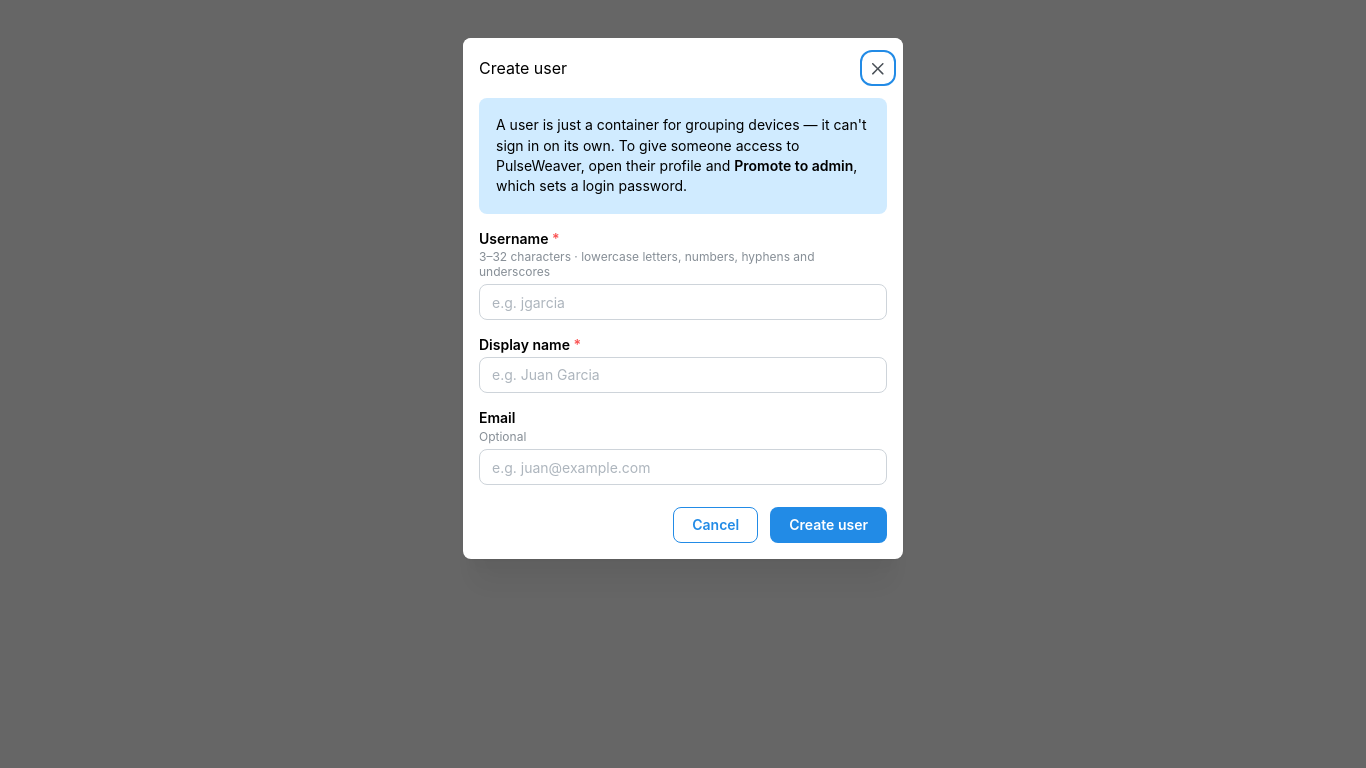
Scenario: CreateUserModal › requires a display name
In the field labelled "Username *": coordinates (683, 302) [479,284,887,320], type "alice"
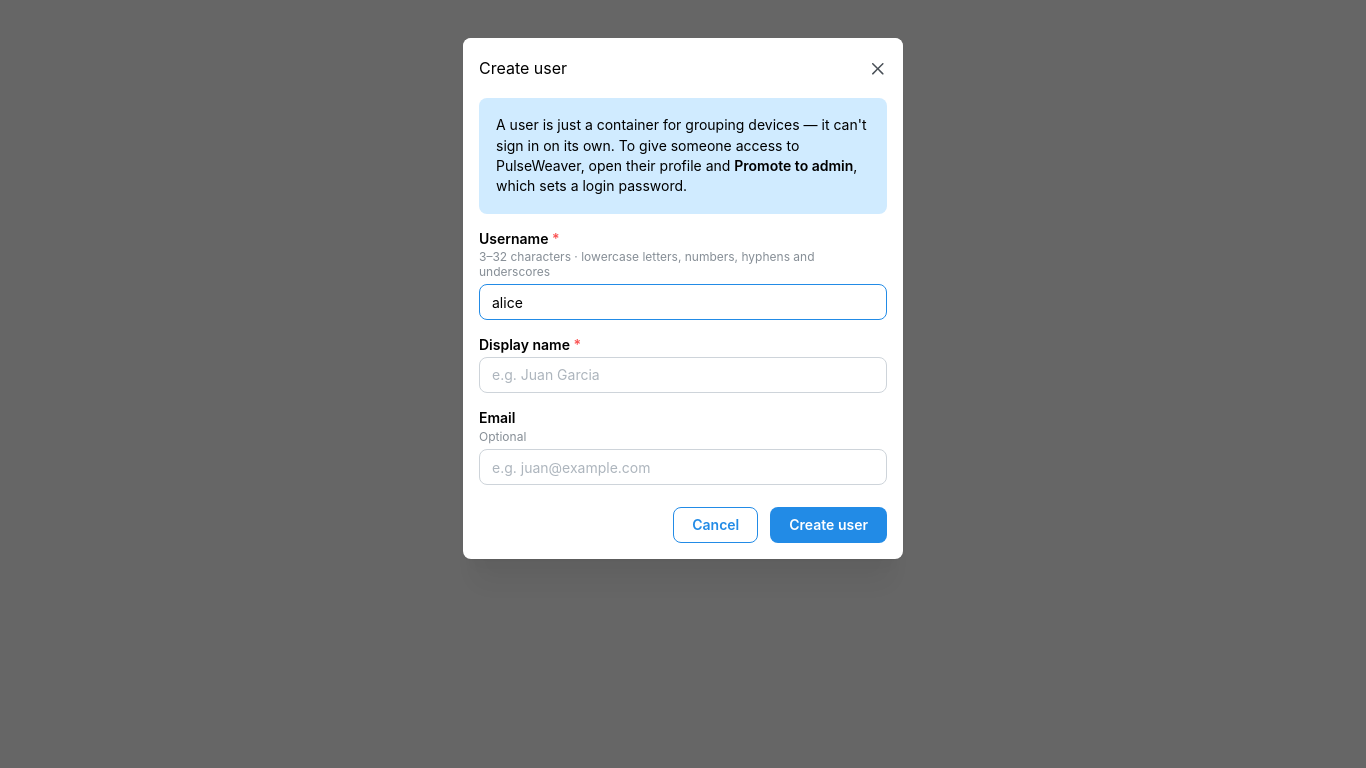
Click the button "Create user": coordinates (829, 525) [770,507,887,543]
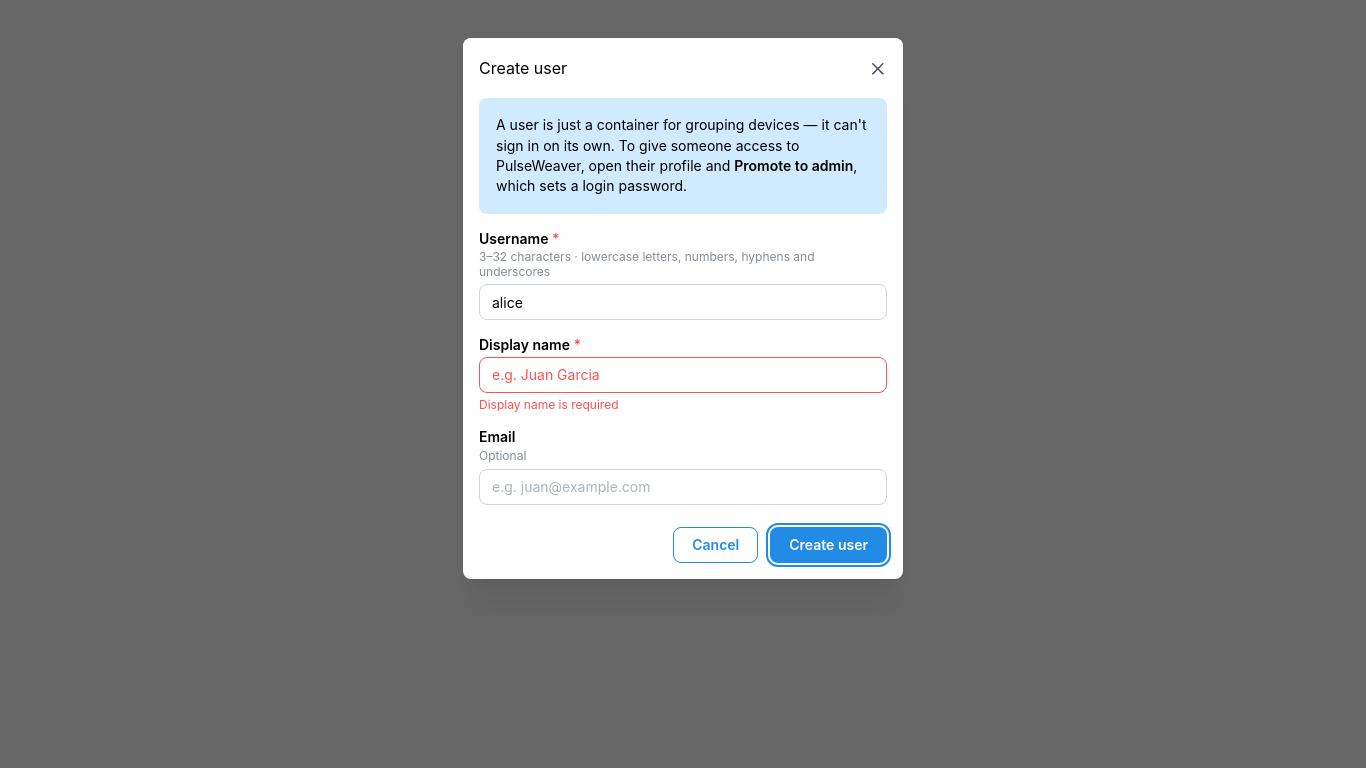
Check: the text "Display name is required" is shown, box [479,397,618,412]
